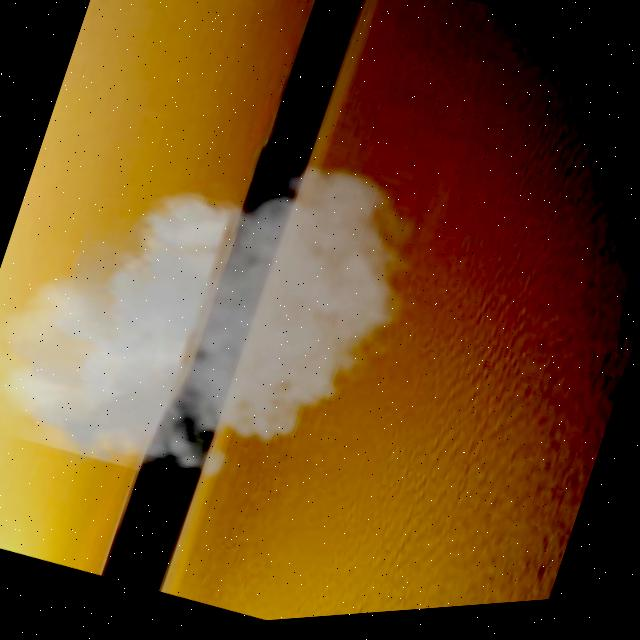Smoke: (0, 89, 458, 545)
